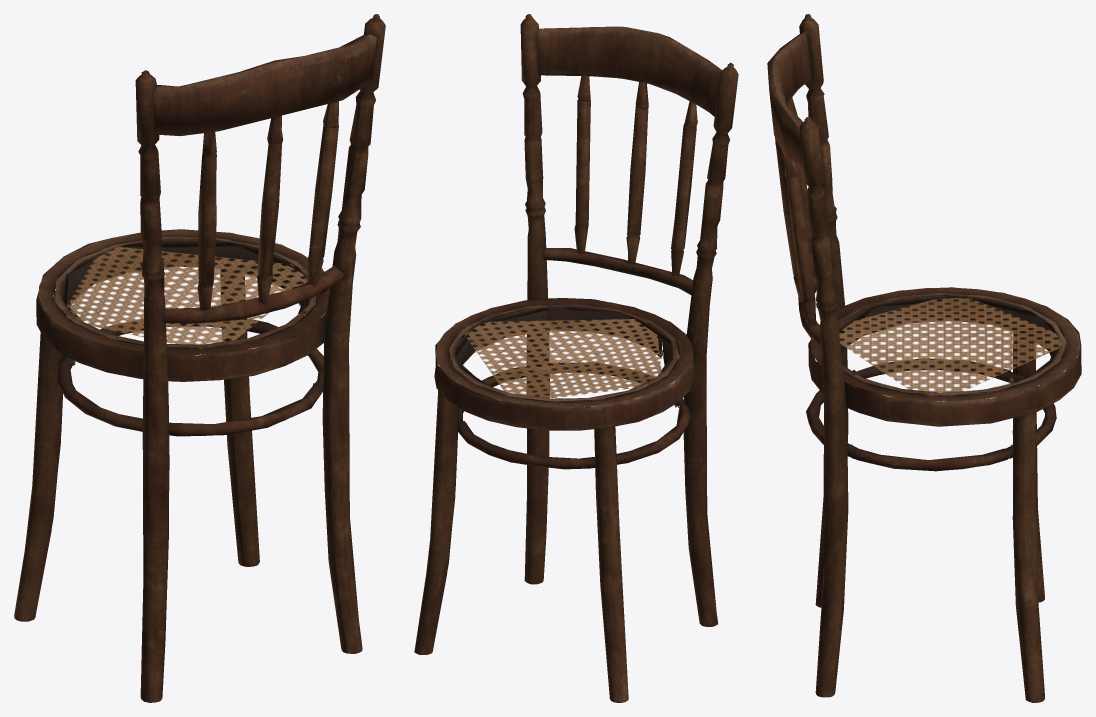
File: chair.glb
3 renders of one model, left to right at view 1: azimuth 30°, elevation 25°; view 2: azimuth 150°, elevation 25°; view 3: azimuth 270°, elevation 25°, orthographic. The views are drawn at different scales.
Parts seen in each view (by area): view 1: chair; view 2: chair; view 3: chair.
Boxes of the visible parts, x1,y1,x2,y2 form: chair: [14, 14, 385, 702]; chair: [414, 14, 738, 702]; chair: [767, 14, 1081, 702].
Size of the model in its own units: 0.3645 by 0.85 by 0.415.
1 material, 1 textured.
